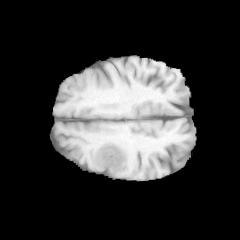glioma: (93, 141, 127, 173)
